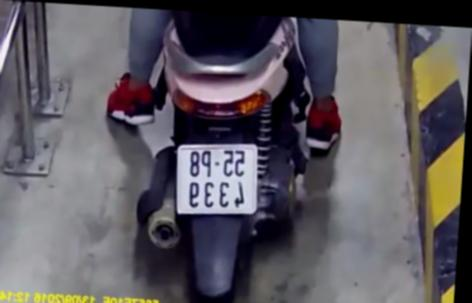License_Plate: (168, 136, 269, 229)
